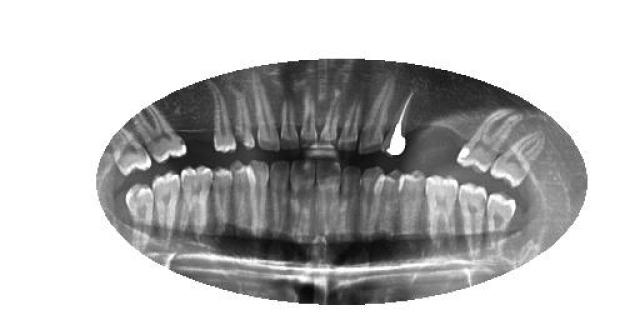Implant: (380, 91, 420, 158)
